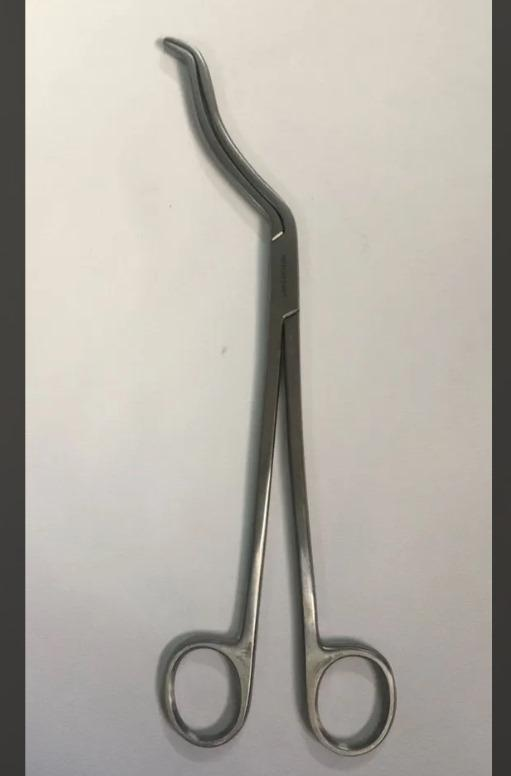Cheatle Forceps: (120, 34, 402, 766)
